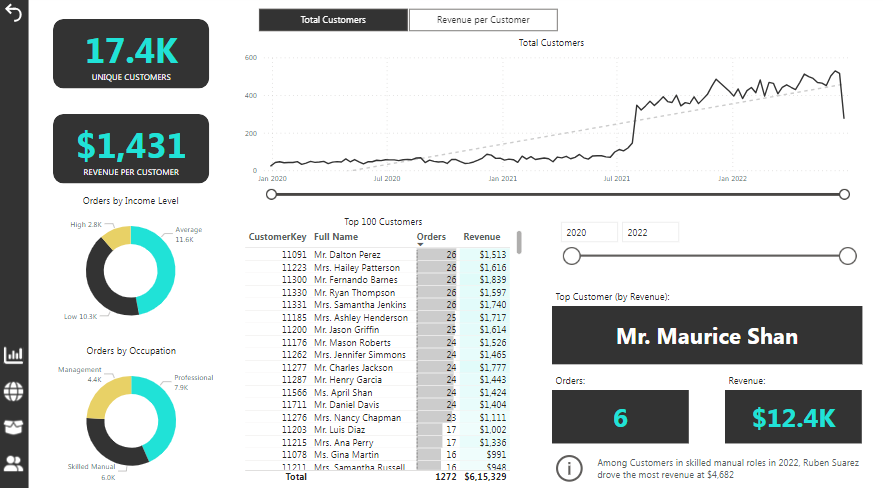

This screenshot's page, from the dashboard's own definition file:
{"tool":"powerbi","page":{"name":"Customer Detail","canvas":[1280,720],"ordinal":3},"visuals":[{"type":"actionButton","box":[3.7,501.1,36.3,35.8],"z":0,"group":"g1"},{"type":"shape","box":[79.5,35,225,100],"z":0},{"type":"actionButton","box":[4,552.8,36.5,36],"z":1000,"group":"g1"},{"type":"shape","box":[79.5,171.5,225,100],"z":1000},{"type":"card","fields":{"Values":["Measure Table.Total Customers"]},"box":[72,25,240,120],"z":2000},{"type":"actionButton","box":[4,604.6,36.5,36],"z":2000,"group":"g1"},{"type":"actionButton","box":[4,656.5,36.5,36],"z":3000,"group":"g1"},{"type":"card","fields":{"Values":["Measure Table.Average Revenue per Customer"]},"box":[72,161.5,240,120],"z":3000},{"type":"shape","title":"Left Nav Background","box":[0,0,44.3,720],"z":4000},{"type":"lineChart","fields":{"Y":["Measure Table.Total Customers"],"Category":["Calendar Lookup.Date Hierarchy.Start of Year","Calendar Lookup.Date Hierarchy.Start of Month","Calendar Lookup.Date Hierarchy.Start of Week","Calendar Lookup.Date Hierarchy.Date"]},"box":[350,58.6,894.3,238.6],"z":5000},{"type":"donutChart","title":"Orders by Income Level","fields":{"Category":["Customer Lookup.Income Level"],"Y":["Measure Table.Total Orders"]},"box":[62.9,287.1,255.3,204.1],"z":6000},{"type":"donutChart","title":"Orders by Occupation","fields":{"Y":["Measure Table.Total Orders"],"Category":["Customer Lookup.Occupation"]},"box":[62.9,502.9,257.1,204.3],"z":7000},{"type":"tableEx","title":"Top 100 Customers","fields":{"Values":["Customer Lookup.CustomerKey","Customer Lookup.Full Name","Measure Table.Total Orders","Measure Table.Total Revenue"]},"box":[350,317.1,410,390],"z":8000},{"type":"card","fields":{"Values":["Customer Lookup.Full Name (Customer Detail)"]},"box":[797.1,448,447.1,84.3],"z":9000},{"type":"textbox","box":[797.1,420,350,28.6],"z":10000},{"type":"card","fields":{"Values":["Measure Table.Total Revenue (Customer Detail)"]},"box":[1047.1,569,197.1,77.1],"z":11000},{"type":"card","fields":{"Values":["Measure Table.Total Orders (Customer Detail)"]},"box":[797.1,569,197.1,77.1],"z":12000},{"type":"textbox","box":[797.1,541.9,197.1,27.1],"z":13000},{"type":"textbox","box":[1047.1,541.9,197.1,27.1],"z":14000},{"type":"slicer","fields":{"Values":["Calendar Lookup.Year"]},"box":[797.1,317.1,447.1,104.3],"z":15000},{"type":"actionButton","box":[797.1,657.1,447.1,50],"z":16000},{"type":"actionButton","box":[4.2,6.9,36.2,36.2],"z":17000},{"type":"group","id":"g1","title":"Navigation Buttons","box":[3.7,501.1,36.7,191.4],"z":18000},{"type":"slicer","fields":{"Values":["Customer Metric Selection.Customer Metric Selection"]},"box":[350,12.9,480,45.7],"z":19000}]}

Visuals, with their boxes in screenshot pixels (x1, y1, x2, y2), scaled from the page's 1280x720 canvas onto the 883x488 screenshot:
actionButton: l=3, t=340, r=28, b=364
shape: l=55, t=24, r=210, b=92
actionButton: l=3, t=375, r=28, b=399
shape: l=55, t=116, r=210, b=184
card - Measure Table.Total Customers: l=50, t=17, r=215, b=98
actionButton: l=3, t=410, r=28, b=434
actionButton: l=3, t=445, r=28, b=469
card - Measure Table.Average Revenue per Customer: l=50, t=109, r=215, b=191
"Left Nav Background" shape: l=0, t=0, r=31, b=487
lineChart - Measure Table.Total Customers x Calendar Lookup.Date Hierarchy.Start of Year: l=241, t=40, r=858, b=201
"Orders by Income Level" donutChart: l=43, t=195, r=220, b=333
"Orders by Occupation" donutChart: l=43, t=341, r=221, b=479
"Top 100 Customers" tableEx: l=241, t=215, r=524, b=479
card - Customer Lookup.Full Name (Customer Detail): l=550, t=304, r=858, b=361
textbox: l=550, t=285, r=791, b=304
card - Measure Table.Total Revenue (Customer Detail): l=722, t=386, r=858, b=438
card - Measure Table.Total Orders (Customer Detail): l=550, t=386, r=686, b=438
textbox: l=550, t=367, r=686, b=386
textbox: l=722, t=367, r=858, b=386
slicer - Calendar Lookup.Year: l=550, t=215, r=858, b=286
actionButton: l=550, t=445, r=858, b=479
actionButton: l=3, t=5, r=28, b=29
"Navigation Buttons" group: l=3, t=340, r=28, b=469
slicer - Customer Metric Selection.Customer Metric Selection: l=241, t=9, r=573, b=40
